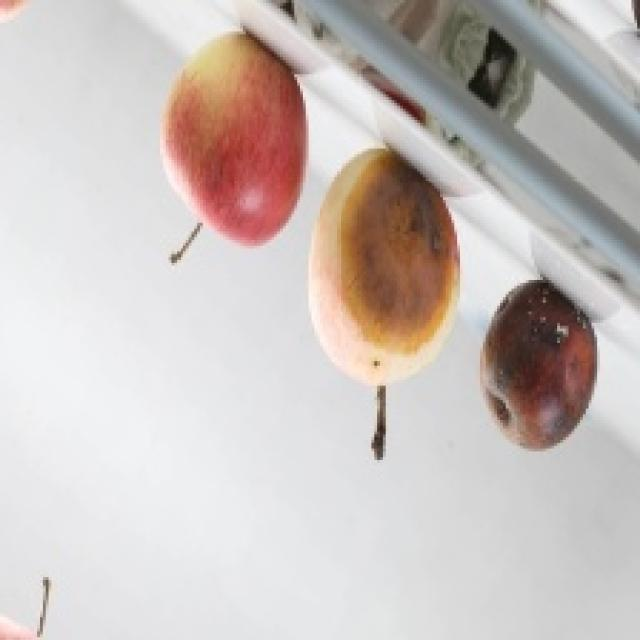100-_ripeness: (157, 29, 310, 246)
rotten_apple: (316, 150, 459, 375), (487, 286, 597, 448)
